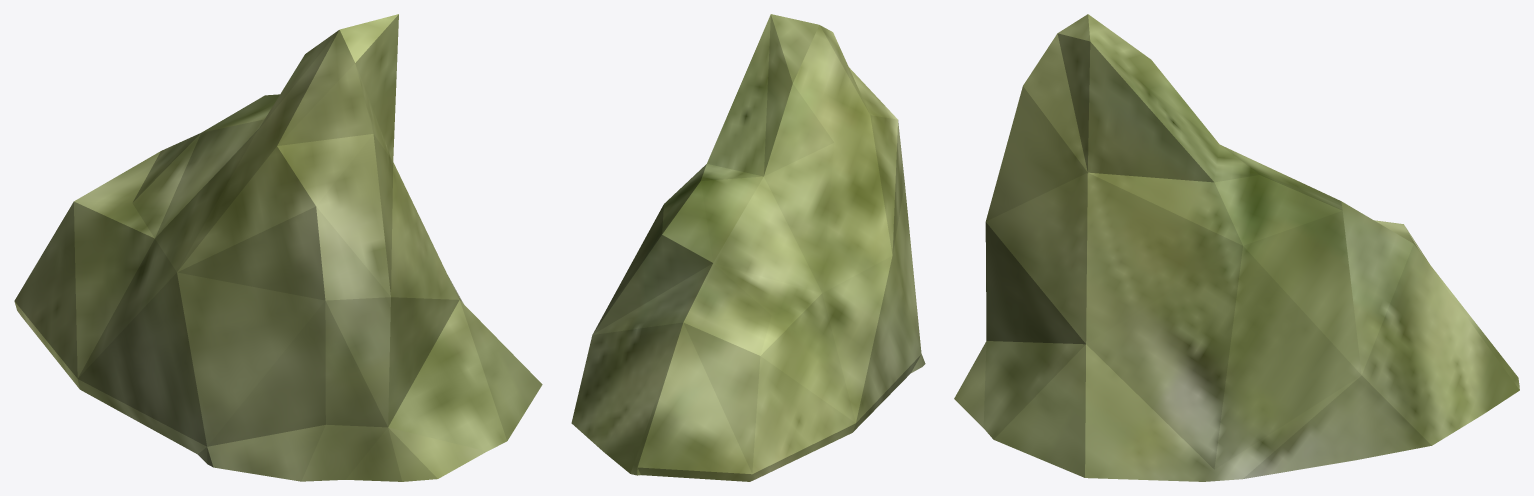
The picture shows the model from 3 angles, left to right: view 1: azimuth 30°, elevation 25°; view 2: azimuth 150°, elevation 25°; view 3: azimuth 270°, elevation 25°; orthographic projection. The views are drawn at different scales.
Size of the model in its own units: 0.4668 by 0.4934 by 0.6783.
1 material, 1 textured.
